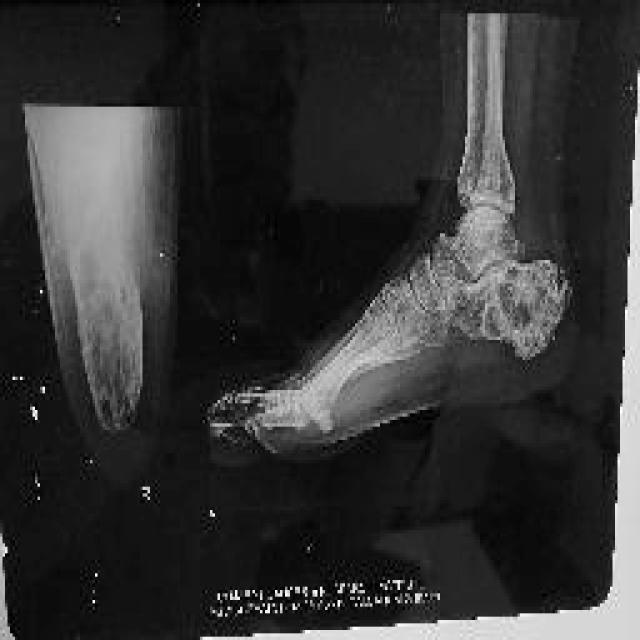bone-cancer: (464, 261, 570, 359)
